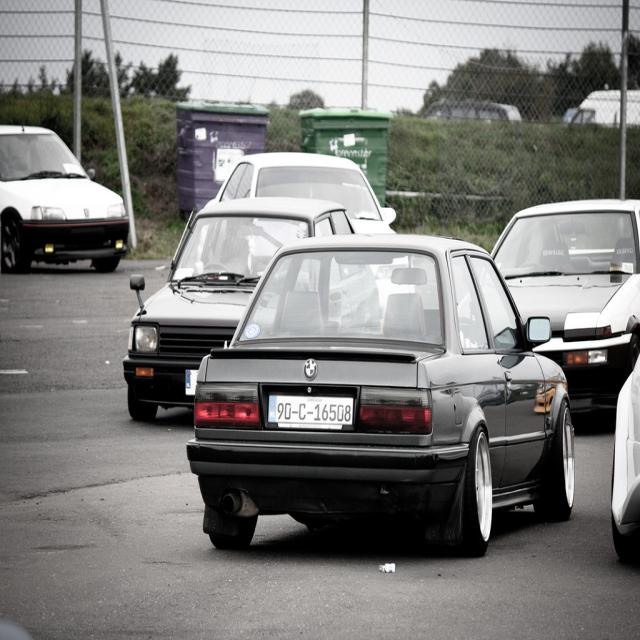car: (168, 220, 570, 576), (120, 191, 379, 388), (451, 201, 639, 428), (201, 147, 406, 307), (0, 119, 132, 276)
